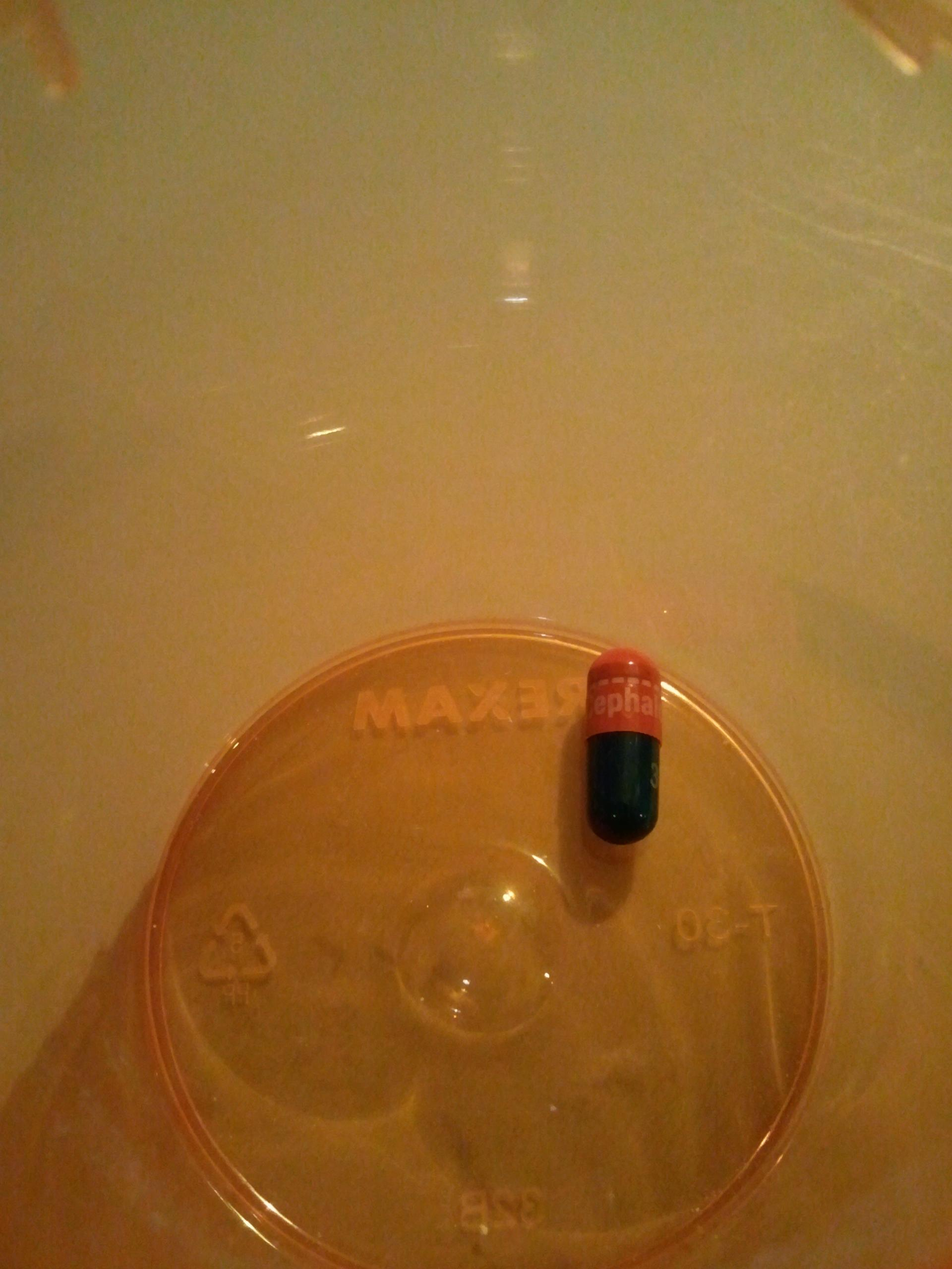Pill: (570, 637, 672, 858)
